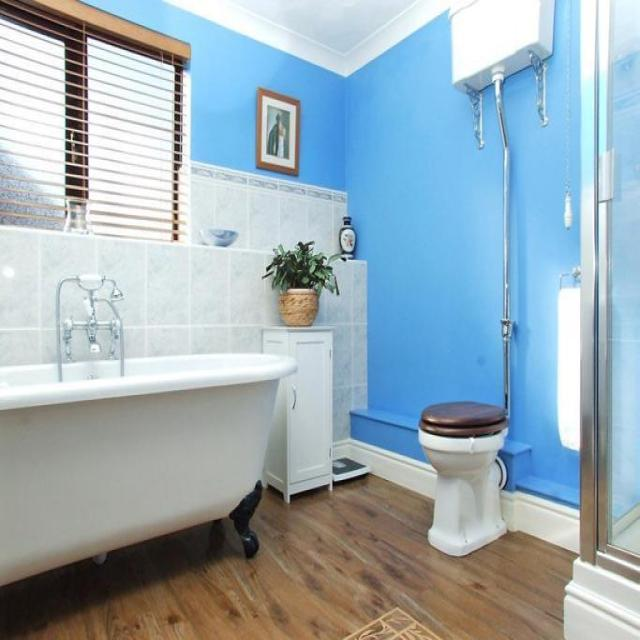cupboard: (260, 325, 334, 504)
plants: (260, 239, 345, 326)
pots: (276, 286, 318, 326)
rugs: (340, 604, 442, 638)
window: (0, 0, 191, 244)
